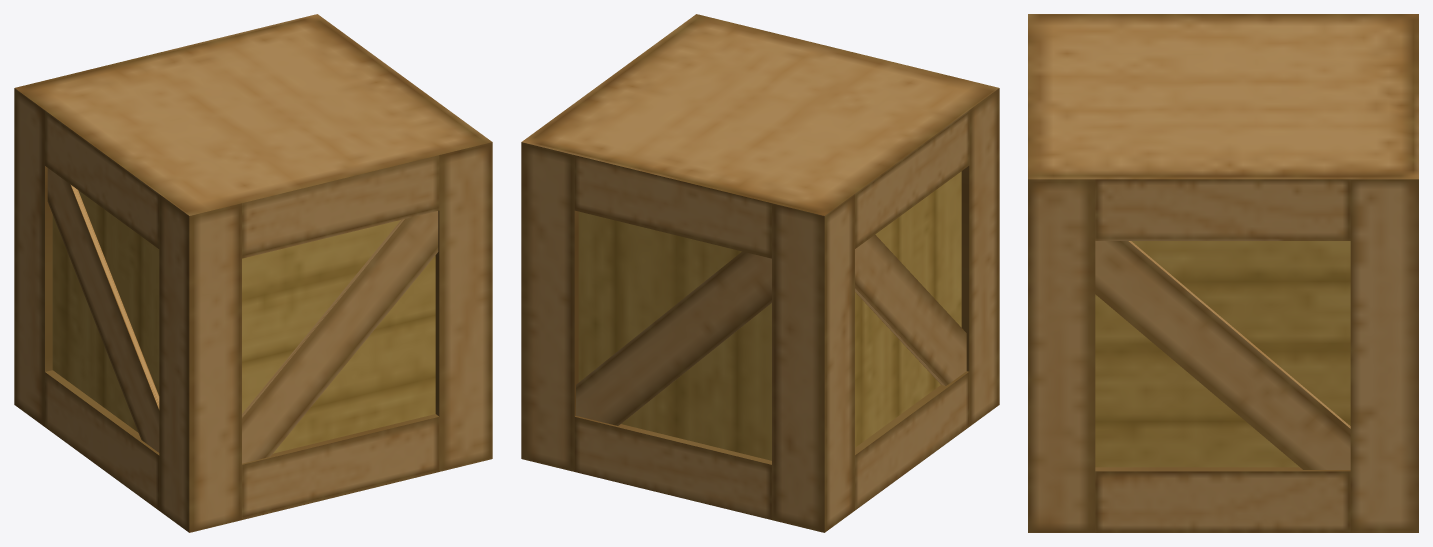
Rendered from caixas.fbx.
The picture shows the model from 3 angles, left to right: view 1: azimuth 30°, elevation 25°; view 2: azimuth 150°, elevation 25°; view 3: azimuth 270°, elevation 25°; orthographic projection. The views are drawn at different scales.
Visible parts, largest first — view 1: caixa; view 2: caixa; view 3: caixa.
Part boxes in pixels (bbox=[...]): caixa: bbox=[14, 14, 492, 532]; caixa: bbox=[521, 14, 999, 532]; caixa: bbox=[1028, 14, 1418, 532].
Bounding box in the file's own units: 585 × 585 × 585.
2 materials, 2 textured.
